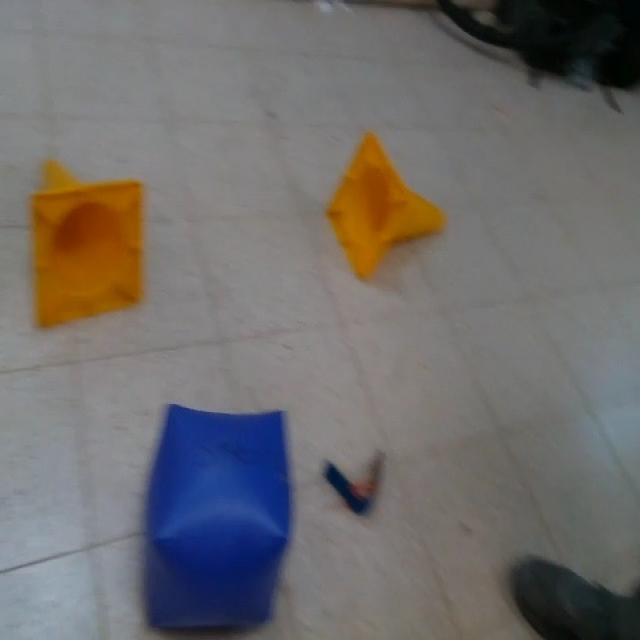cone: (31, 154, 145, 335), (328, 130, 451, 282)
cube: (143, 400, 290, 630)
